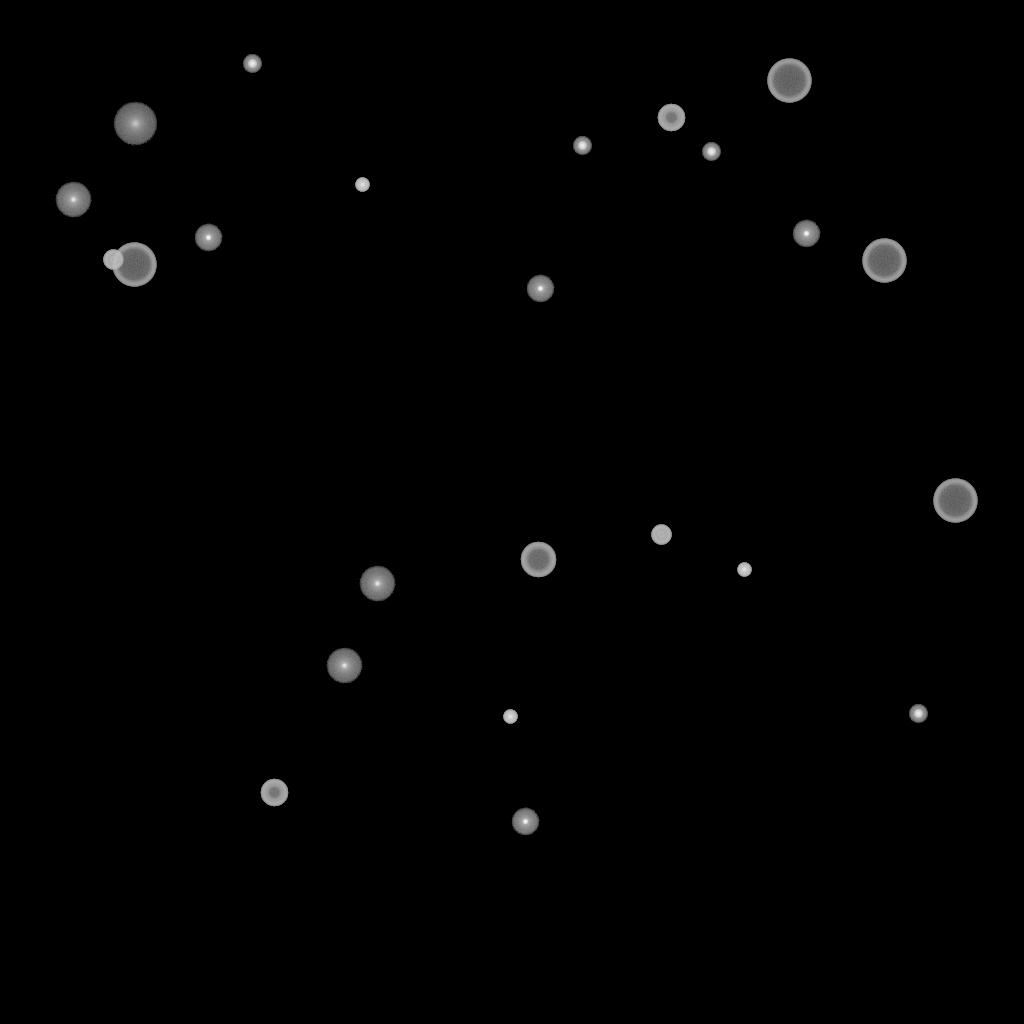depth:-10: (511, 808, 539, 836), (526, 275, 554, 303), (194, 224, 222, 252), (792, 220, 820, 248)
depth:-20: (909, 705, 927, 723), (573, 137, 591, 155), (702, 143, 720, 161), (243, 55, 261, 73)
depth:-30: (355, 178, 369, 192), (737, 563, 751, 577), (503, 710, 517, 724)
depth:-40: (651, 525, 671, 545), (103, 250, 123, 270)
depth:-50: (657, 104, 685, 132), (260, 779, 288, 807)
depth:-60: (520, 542, 556, 578)
depth:-70: (862, 239, 906, 283), (767, 59, 811, 103), (933, 479, 977, 523), (112, 243, 156, 287)
depth:0: (326, 648, 362, 684), (359, 566, 395, 602), (55, 182, 91, 218)
depth:10: (113, 102, 157, 146)
